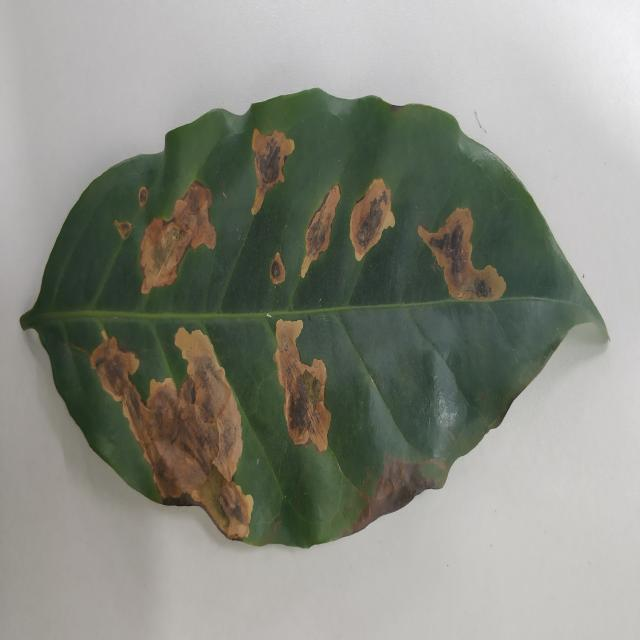Plaga-Minador: (19, 88, 608, 552)
